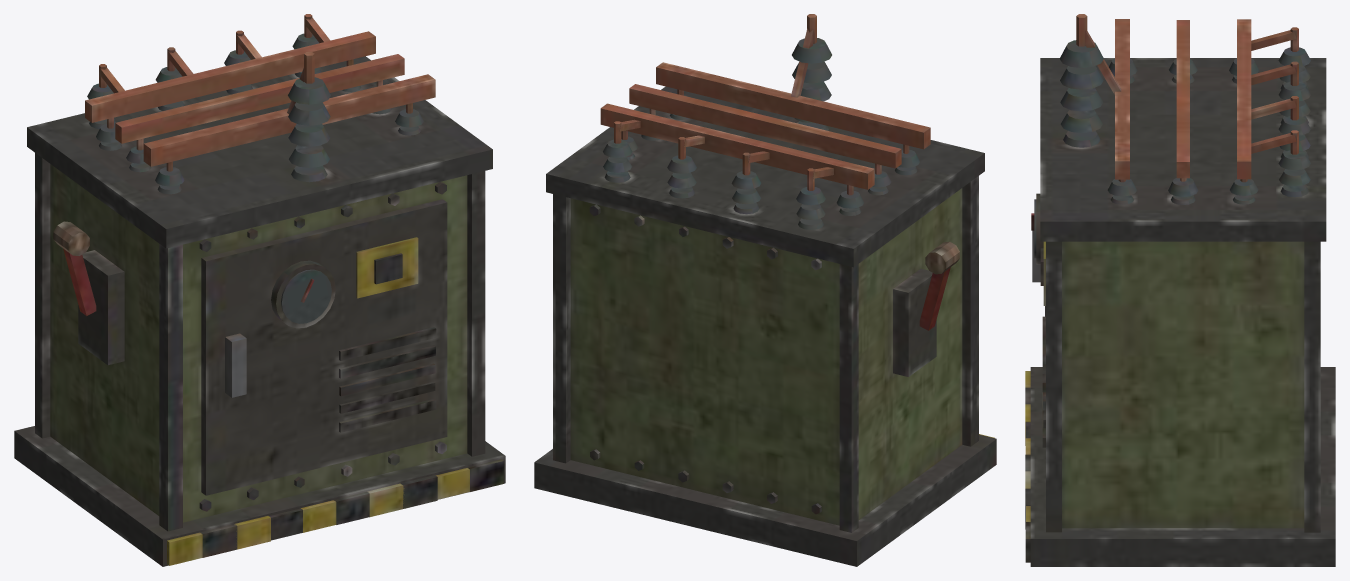
Rendered from feBus.glb.
The picture shows the model from 3 angles, left to right: view 1: azimuth 30°, elevation 25°; view 2: azimuth 150°, elevation 25°; view 3: azimuth 270°, elevation 25°; orthographic projection. The views are drawn at different scales.
Visible parts, largest first — view 1: feBus_Base; view 2: feBus_Base; view 3: feBus_Base.
Boxes of the visible parts, <box> form: feBus_Base: <box>14,14,505,566</box>; feBus_Base: <box>534,14,996,566</box>; feBus_Base: <box>1025,14,1335,566</box>.
Bounding box in the file's own units: 0.8655 × 1.01 × 0.6121.
1 material, 1 textured.
